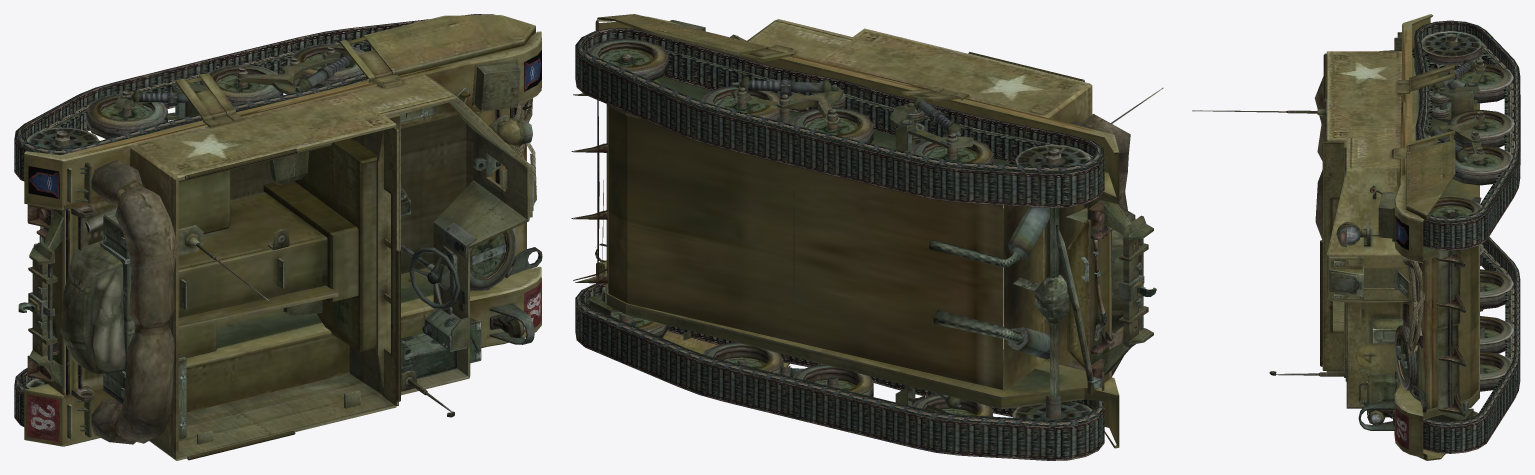
File: vehicle_uni_carrier_yw_static.glb
The picture shows the model from 3 angles, left to right: view 1: azimuth 30°, elevation 25°; view 2: azimuth 150°, elevation 25°; view 3: azimuth 270°, elevation 25°; orthographic projection. The views are drawn at different scales.
Size of the model in its own units: 159 by 93.89 by 103.
4 materials, 4 textured.
